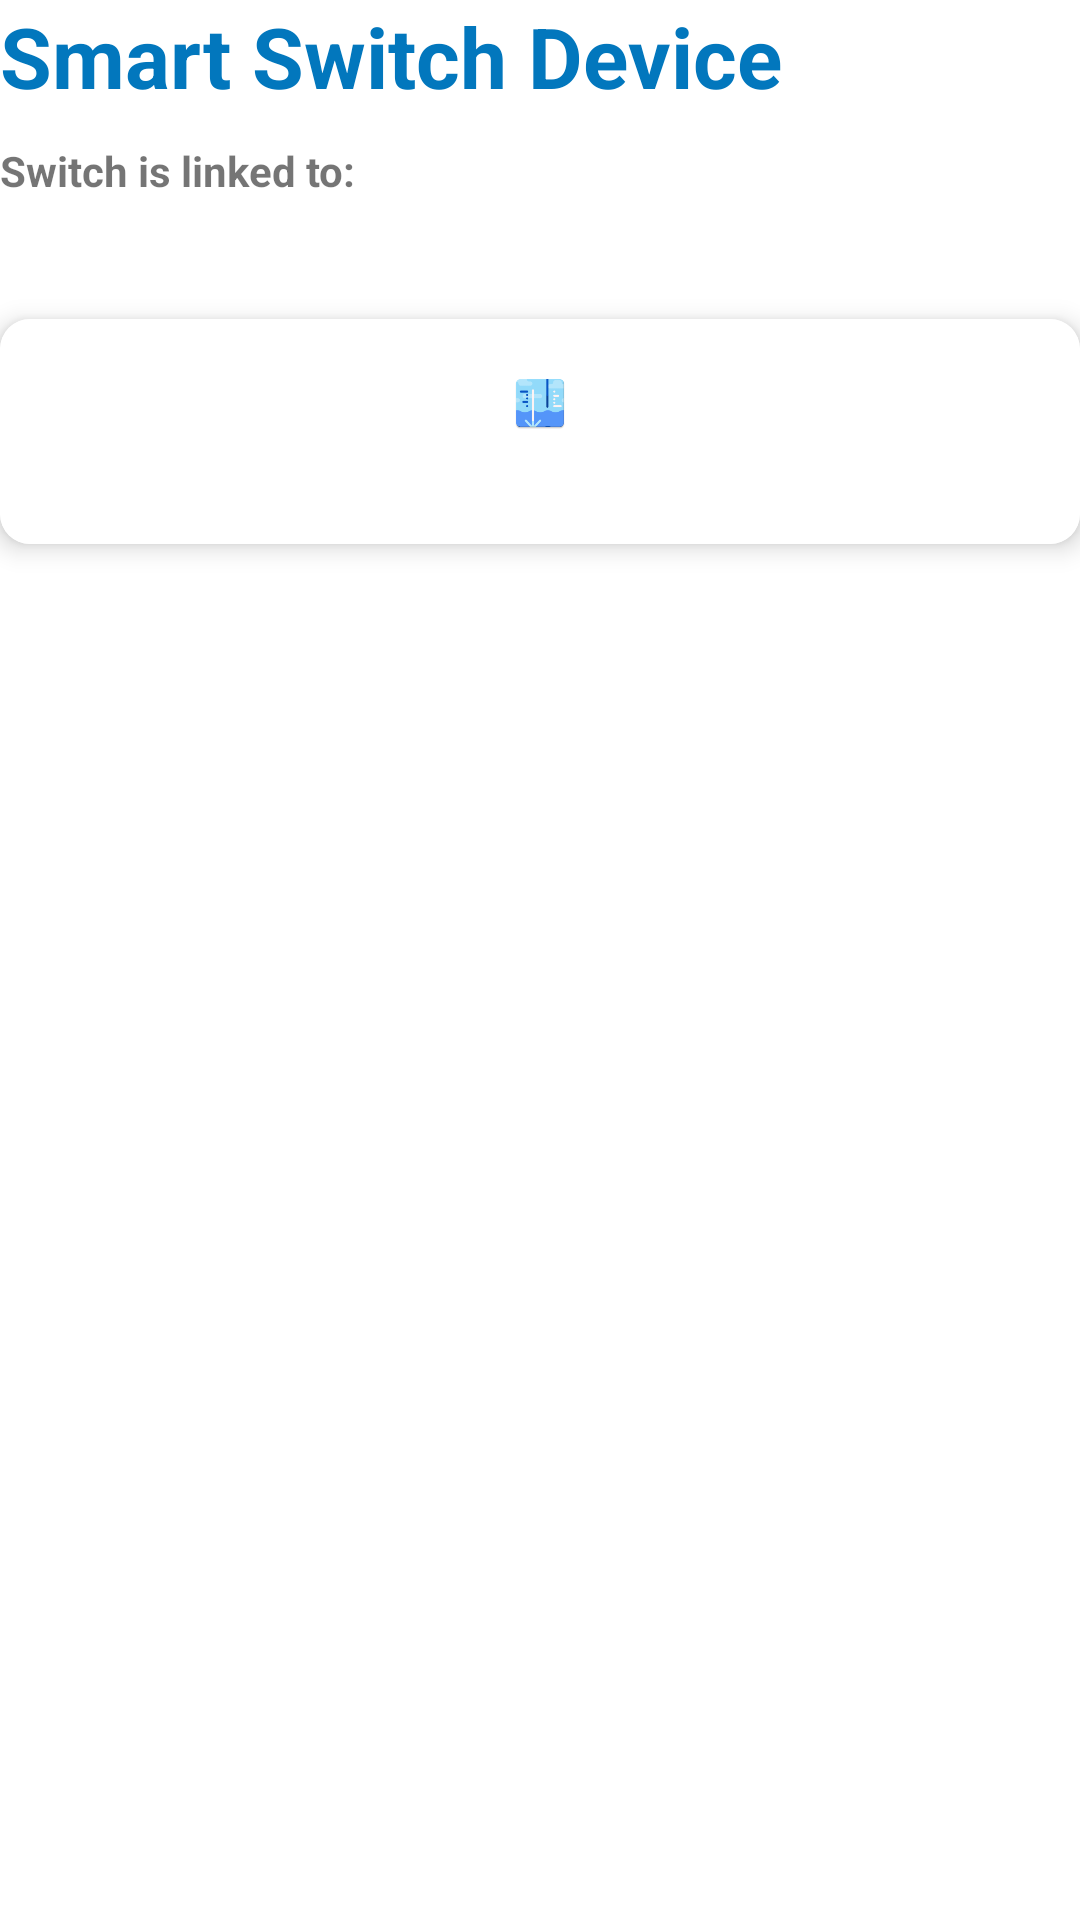

Named icons in this screenshot (1080 × 1920) and their centers, (x=x, y=y):
Device Type Image: (x=540, y=403)
